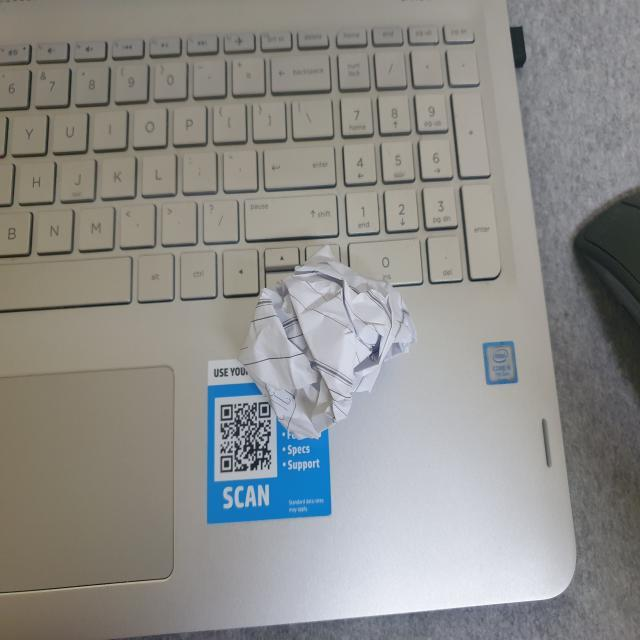Paper: (240, 250, 421, 441)
